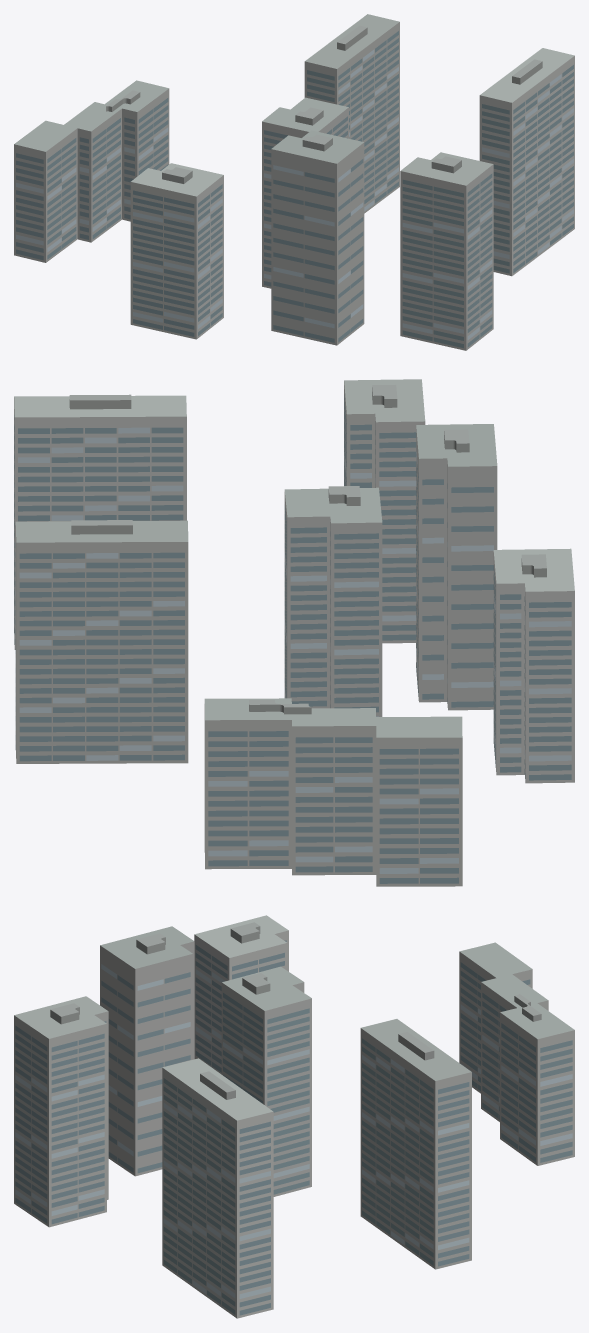
The model's file is apt-a13377903.glb.
3 renders of one model, top to bottom at view 1: azimuth 30°, elevation 25°; view 2: azimuth 150°, elevation 25°; view 3: azimuth 270°, elevation 25°, orthographic. The views are drawn at different scales.
Visible parts, largest first — view 1: apt-a13377903; view 2: apt-a13377903; view 3: apt-a13377903.
Boxes of the visible parts, x1,y1,x2,y2 form: apt-a13377903: (14,14,574,350); apt-a13377903: (14,379,574,886); apt-a13377903: (14,915,574,1318).
Bounding box in the file's own units: 169 × 68 × 161.
